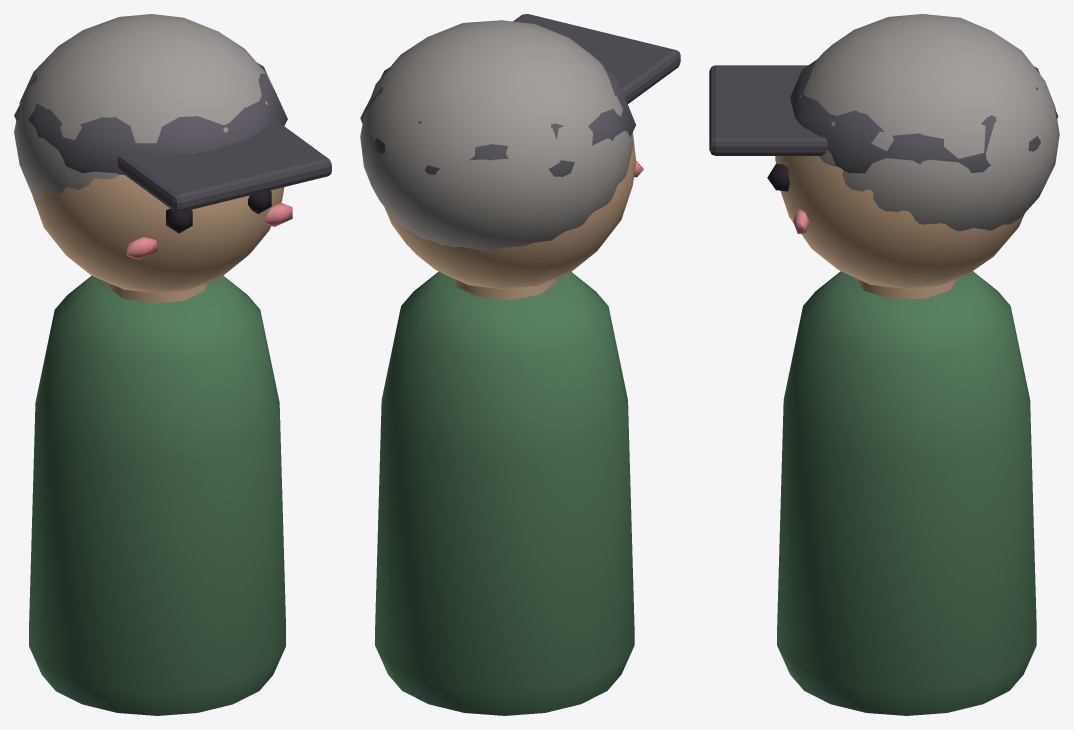
File: person_old.fbx
3 views of the same model, side by side, from view 1: azimuth 30°, elevation 25°; view 2: azimuth 150°, elevation 25°; view 3: azimuth 270°, elevation 25° (orthographic).
Visible parts, largest first — view 1: Body, Head; view 2: Body, Head; view 3: Body, Head.
Part boxes in pixels (x1,y1,x2,y2): Body: [29, 275, 285, 715]; Head: [14, 14, 331, 292]; Body: [375, 271, 634, 715]; Head: [360, 14, 680, 288]; Body: [777, 271, 1036, 715]; Head: [709, 14, 1059, 288].
Size of the model in its own units: 0.208 by 0.5394 by 0.266.
